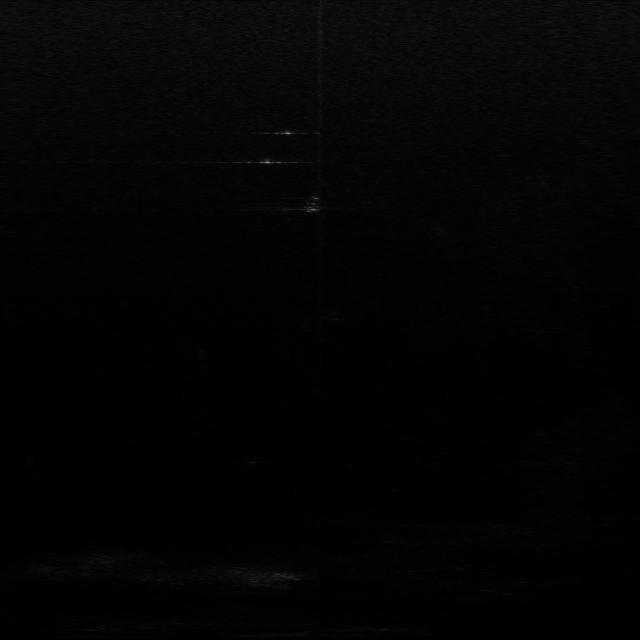rov: (298, 193, 323, 215)
